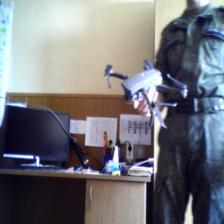drone: (102, 54, 191, 122)
